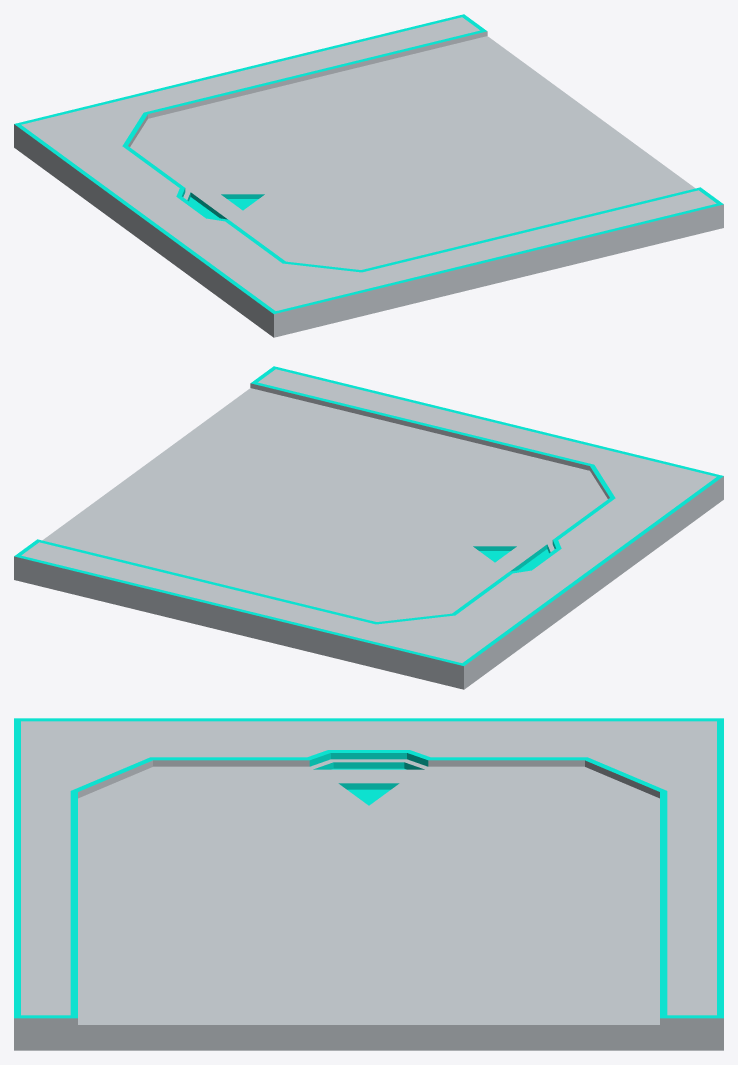
The model's file is floor-01.fbx.
The picture shows the model from 3 angles, top to bottom: view 1: azimuth 30°, elevation 25°; view 2: azimuth 150°, elevation 25°; view 3: azimuth 270°, elevation 25°; orthographic projection. The views are drawn at different scales.
Parts seen in each view (by area): view 1: floor-01; view 2: floor-01; view 3: floor-01.
Part boxes in pixels (x1,y1,x2,y2): floor-01: (14, 14, 723, 337); floor-01: (14, 366, 723, 689); floor-01: (14, 718, 723, 1050).
Size of the model in its own units: 100 by 5 by 100.
